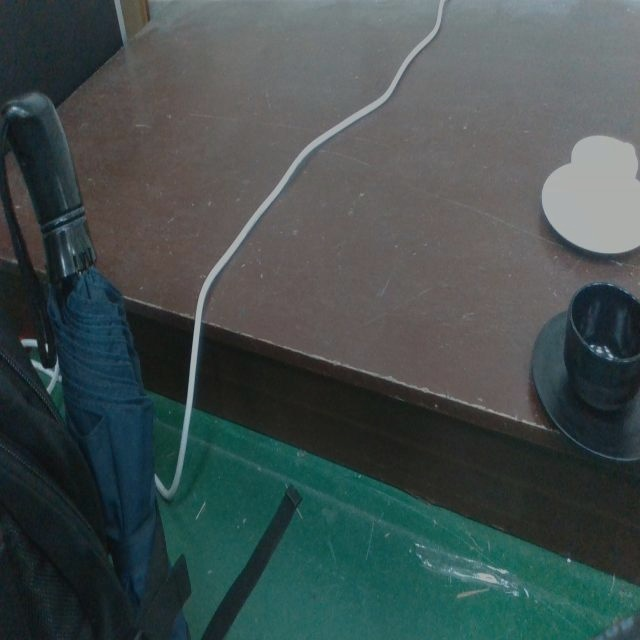black: (527, 277, 640, 472)
white: (540, 132, 640, 258)
